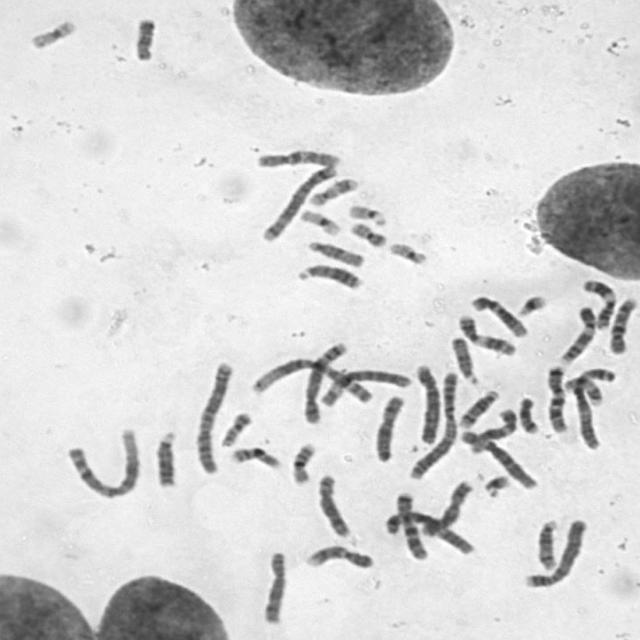A1: (245, 353, 376, 405), (60, 422, 143, 500)
A2: (402, 364, 462, 480), (188, 356, 236, 475)
A3: (378, 506, 477, 556), (566, 361, 618, 452)
B4: (518, 514, 590, 589), (408, 358, 442, 446)
B5: (256, 159, 341, 243), (296, 338, 349, 425)
C10: (251, 144, 342, 169), (605, 292, 639, 355)
C11: (451, 309, 518, 357), (577, 274, 618, 330)
C12: (466, 289, 530, 338), (462, 404, 519, 454)
C6: (456, 424, 540, 490), (316, 363, 413, 408)
C7: (388, 486, 429, 561), (541, 360, 569, 434)
C8: (310, 469, 353, 539), (256, 546, 290, 626)
C9: (554, 301, 599, 365), (299, 540, 376, 571)
D13: (292, 258, 364, 291), (149, 426, 179, 488)
D14: (454, 384, 502, 430), (531, 514, 562, 572)
D15: (301, 235, 367, 268), (445, 332, 481, 386)
E16: (224, 441, 283, 471), (284, 437, 318, 486)
E17: (304, 172, 362, 207), (560, 372, 606, 408)
E18: (128, 12, 158, 62), (513, 392, 541, 435)
F19: (24, 14, 80, 51), (295, 204, 342, 237)
F20: (214, 406, 253, 448), (344, 217, 388, 248)
G21: (512, 289, 550, 318), (478, 469, 511, 498)
G22: (383, 237, 430, 266), (342, 198, 388, 226)
X: (416, 475, 475, 538), (368, 391, 408, 464)
